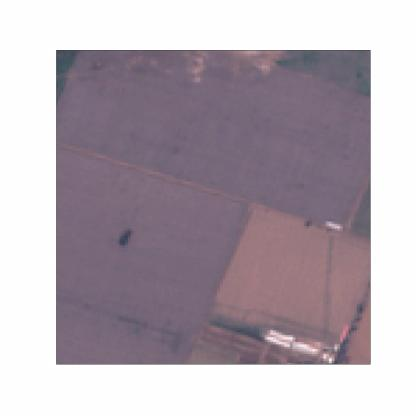silobolsa: (266, 326, 294, 340), (292, 342, 319, 353), (323, 218, 344, 232), (263, 335, 288, 346)
